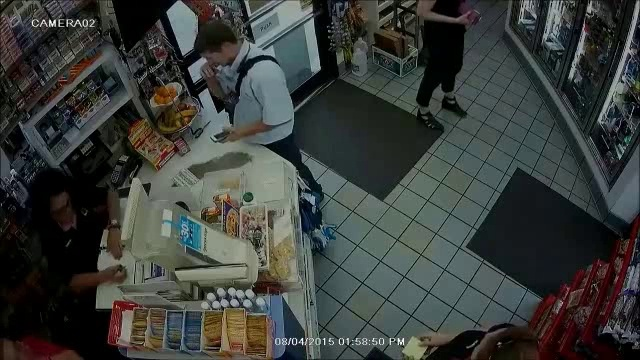normal: (184, 12, 326, 211), (24, 172, 130, 304)
